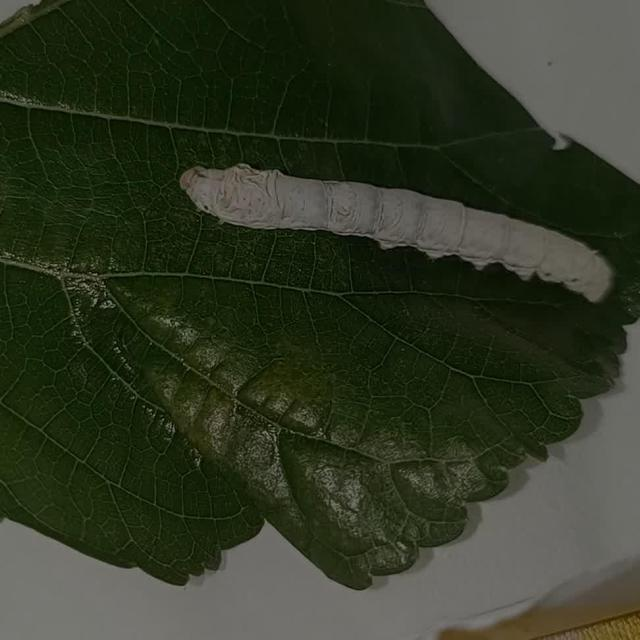Healthy: (156, 124, 625, 342)
